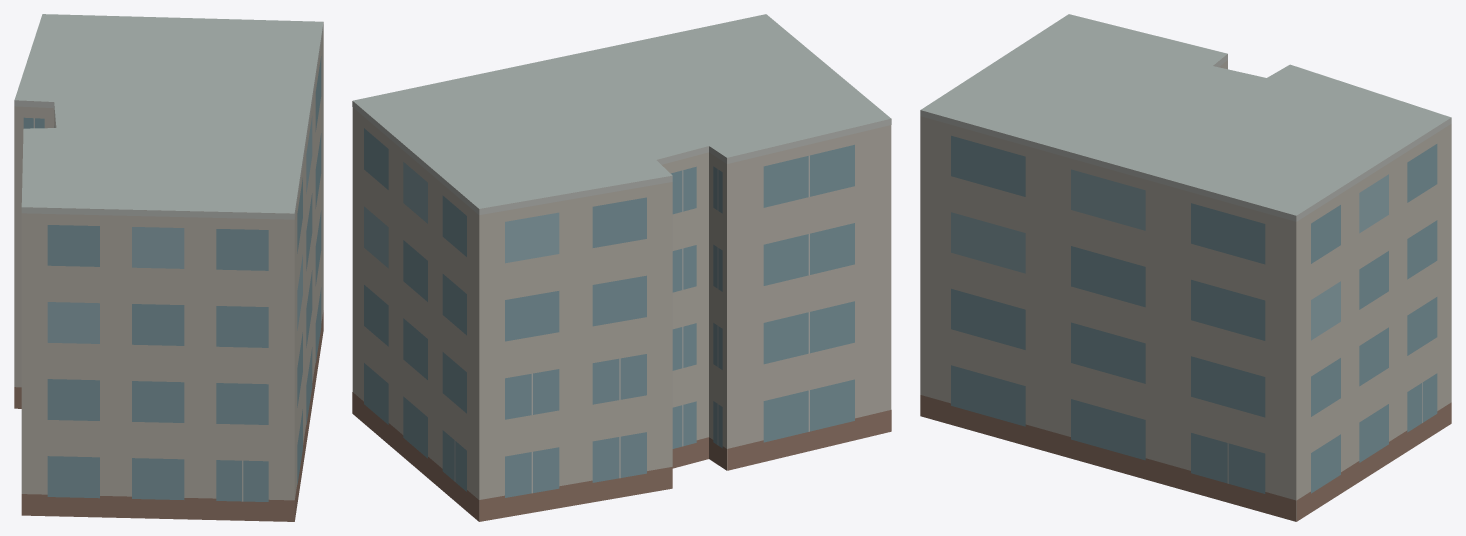
Rendered from survey-upis-32645016.glb.
3 renders of one model, left to right at view 1: azimuth 30°, elevation 25°; view 2: azimuth 150°, elevation 25°; view 3: azimuth 270°, elevation 25°, orthographic. The views are drawn at different scales.
Visible parts, largest first — view 1: survey-upis-32645016.tmp; view 2: survey-upis-32645016.tmp; view 3: survey-upis-32645016.tmp.
Boxes of the visible parts, <box> form: survey-upis-32645016.tmp: <box>14,14,323,521</box>; survey-upis-32645016.tmp: <box>352,14,891,521</box>; survey-upis-32645016.tmp: <box>920,14,1451,521</box>.
Bounding box in the file's own units: 17.26 × 12.2 × 19.2.
